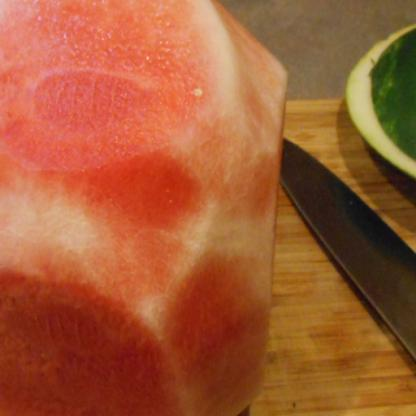knife: (275, 123, 415, 415)
